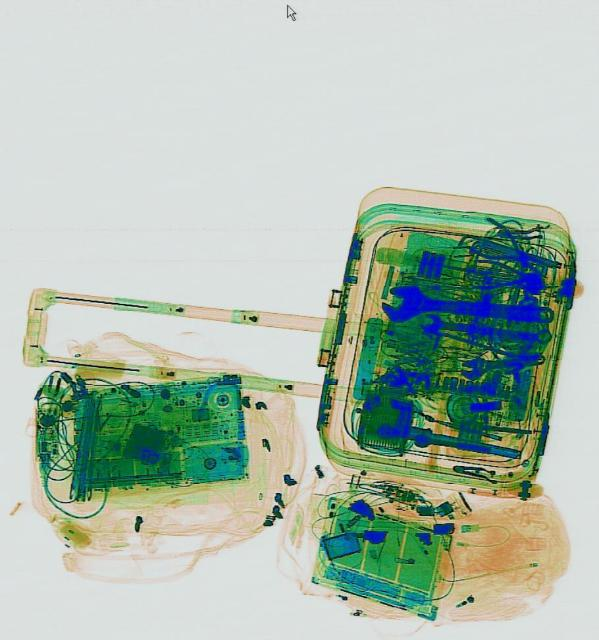Pliers: (461, 210, 566, 290), (467, 254, 548, 294)
Wrench: (376, 282, 552, 334), (421, 310, 552, 348), (459, 348, 546, 380)
